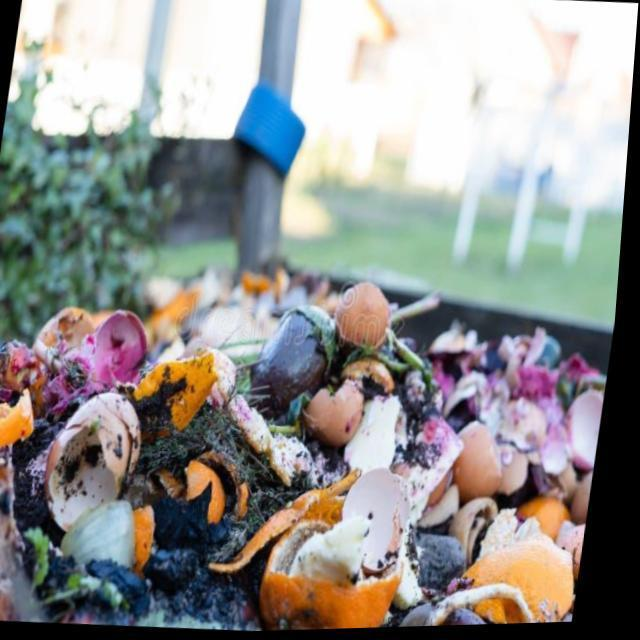Garbage: (0, 265, 611, 632)
contaminated_waste: (67, 499, 144, 566)
